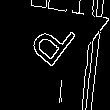P_SW: (22, 12, 78, 74)
